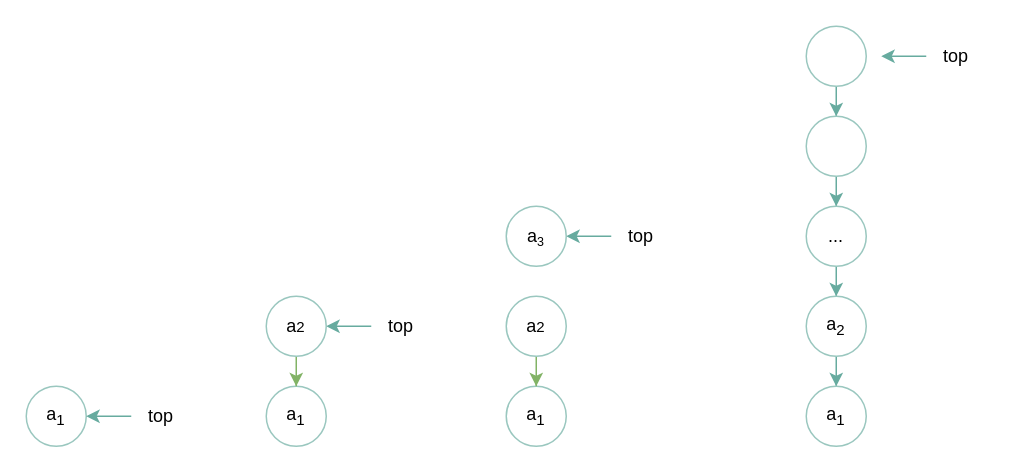
Some shapes in this 1013 by 473 pixel diagram are drawn without their labels. Here are the shapes that lost their labels. From the top down, the centre of each, then its label:
At (835,55): "a n".
At (835,145): "a n-1".
